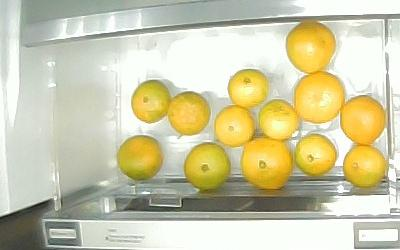tangerine: (241, 138, 292, 190), (285, 22, 336, 73), (295, 73, 344, 123), (341, 96, 386, 145), (184, 144, 230, 191), (116, 136, 164, 180), (167, 93, 210, 136), (343, 144, 386, 186), (294, 134, 335, 175), (215, 106, 255, 147), (228, 68, 269, 107), (259, 100, 298, 140), (131, 80, 167, 123)
